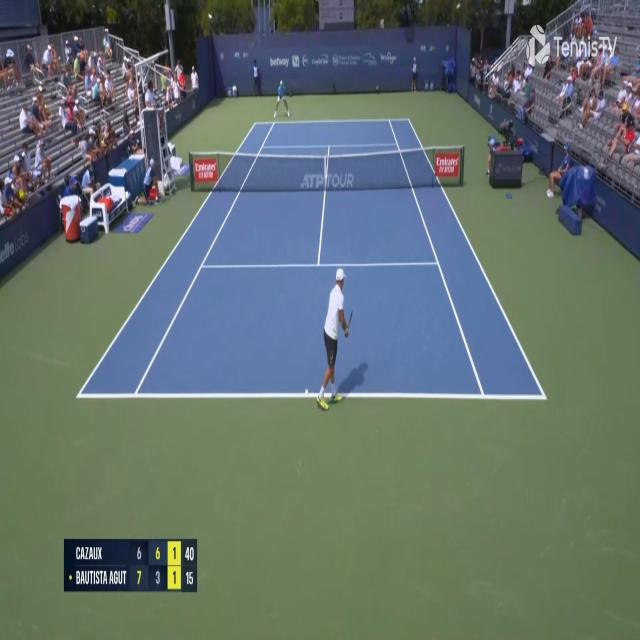tennis-player: (314, 264, 352, 416), (272, 78, 292, 122)
